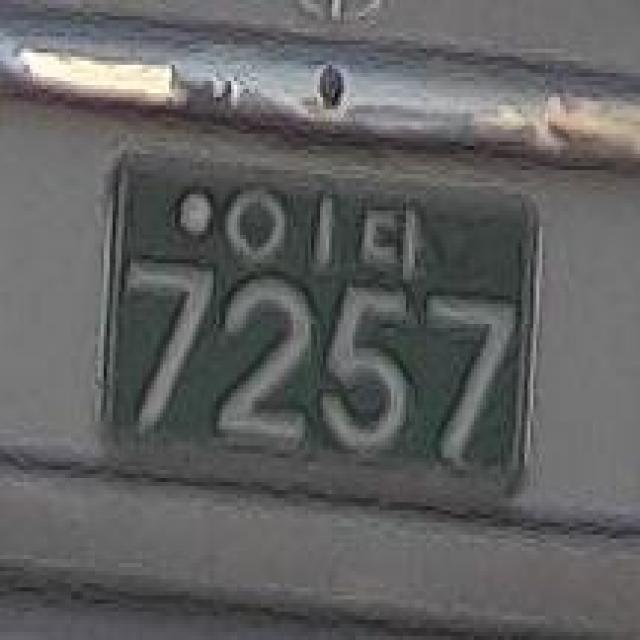illegal_plate: (78, 92, 556, 565)
